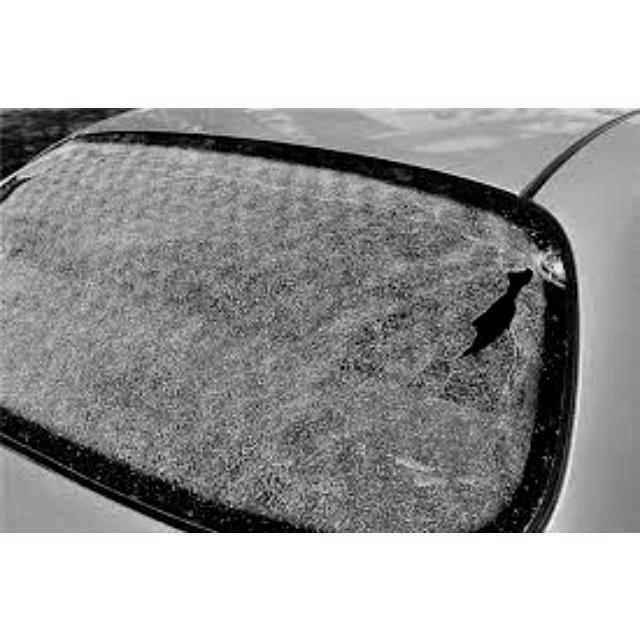Rear-windscreen-Damage: (305, 195, 593, 437)
